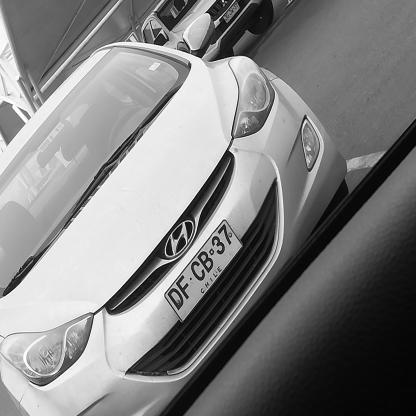Patente: (165, 218, 244, 322)
